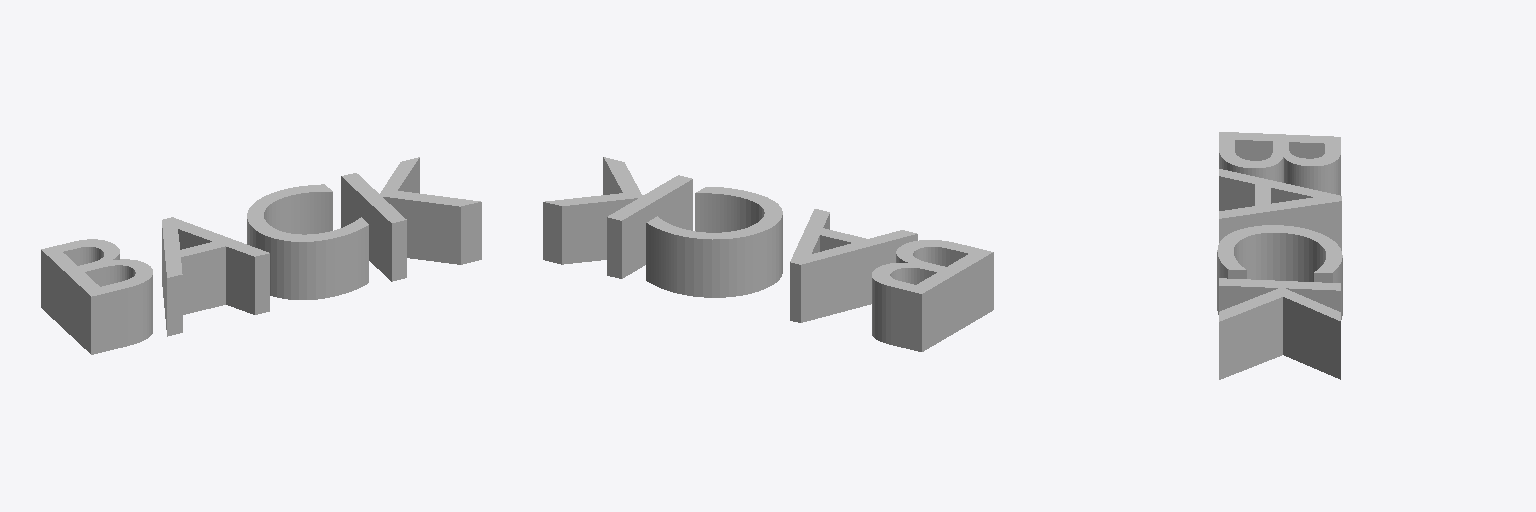
Rendered from back.obj.
3 renders of one model, left to right at view 1: azimuth 30°, elevation 25°; view 2: azimuth 150°, elevation 25°; view 3: azimuth 270°, elevation 25°, orthographic.
Parts seen in each view (by area): view 1: Text.002; view 2: Text.002; view 3: Text.002.
Boxes of the visible parts, <box> form: Text.002: <box>41,157,481,354</box>; Text.002: <box>543,157,993,351</box>; Text.002: <box>1217,132,1342,379</box>.
Bounding box in the file's own units: 2.52 × 0.36 × 0.7.